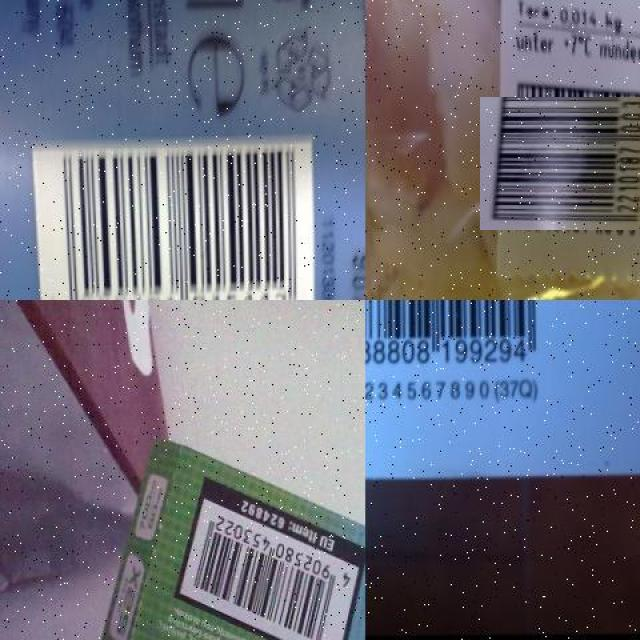Barcode: (31, 132, 316, 300), (171, 474, 366, 640), (494, 83, 640, 243), (365, 300, 552, 372)
